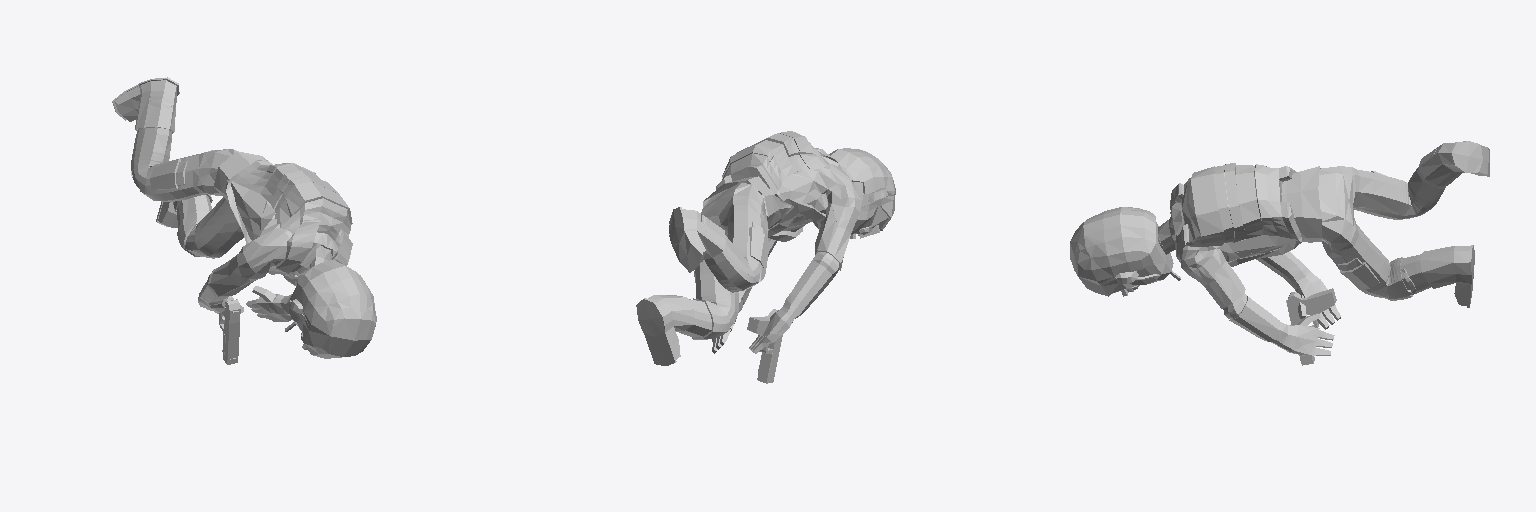
Rendered from frame_0043.obj.
The picture shows the model from 3 angles: view 1: azimuth 30°, elevation 25°; view 2: azimuth 150°, elevation 25°; view 3: azimuth 270°, elevation 25°; orthographic projection.
Visible parts, largest first — view 1: Body, Gun; view 2: Body, Gun; view 3: Body, Gun.
Part boxes in pixels (bbox=[...]): Body: bbox=[112, 77, 376, 358]; Gun: bbox=[219, 296, 240, 364]; Body: bbox=[636, 131, 895, 365]; Gun: bbox=[747, 309, 782, 383]; Body: bbox=[1070, 141, 1489, 356]; Gun: bbox=[1286, 288, 1336, 365].
Bounding box in the file's own units: 1.25 × 2.29 × 3.83.